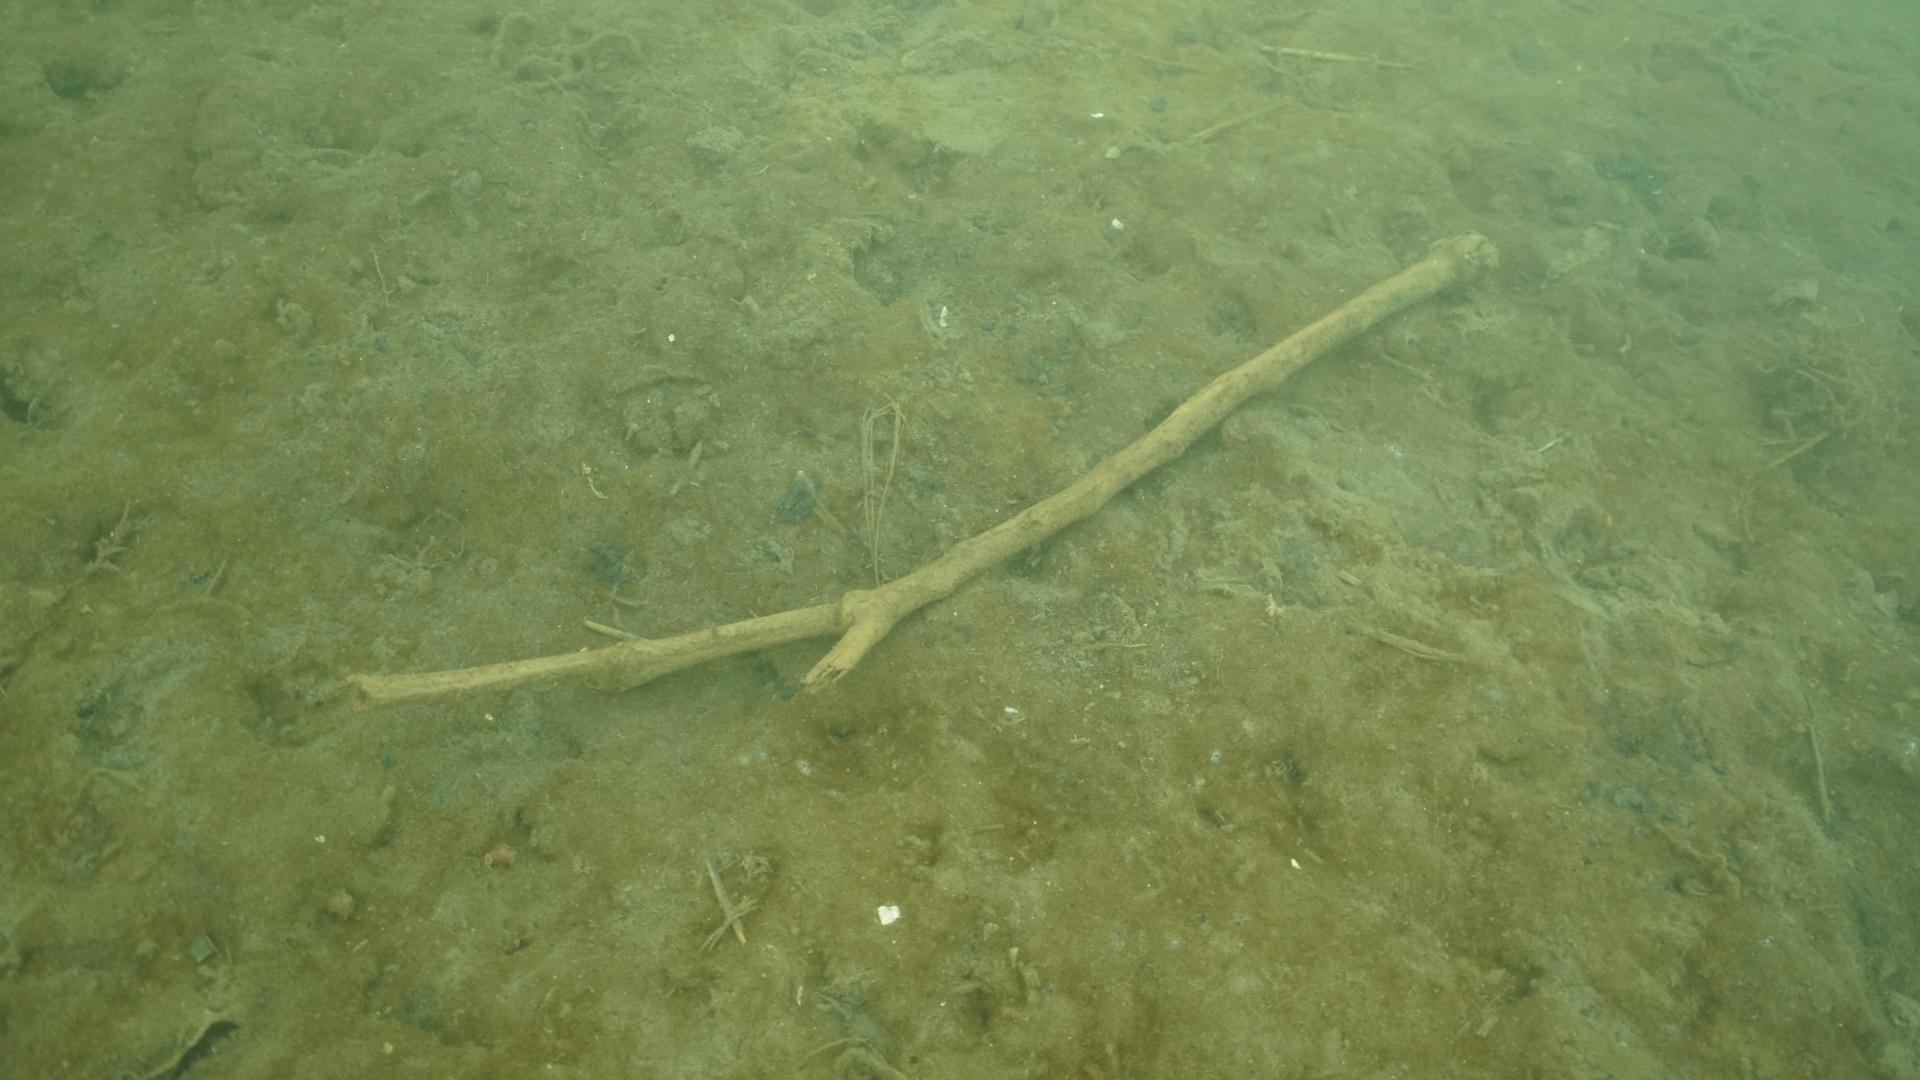wood: (347, 225, 1502, 709)
